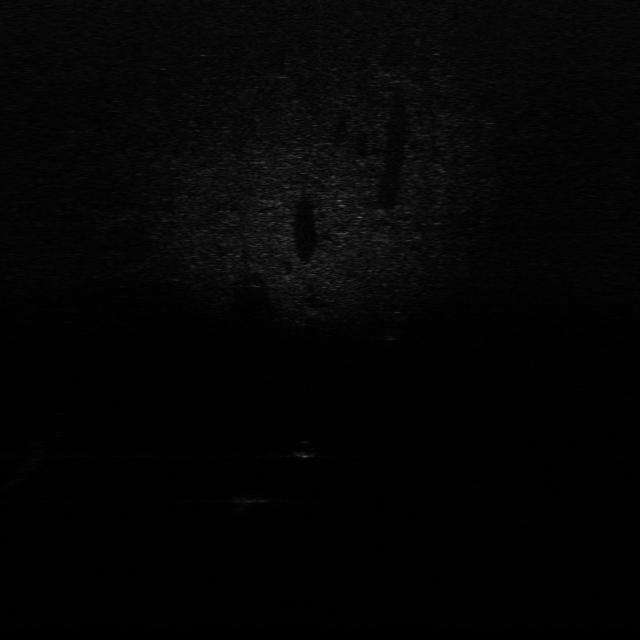ball: (290, 442, 320, 460)
square cage: (230, 490, 280, 507)
tyre: (381, 310, 413, 342)
